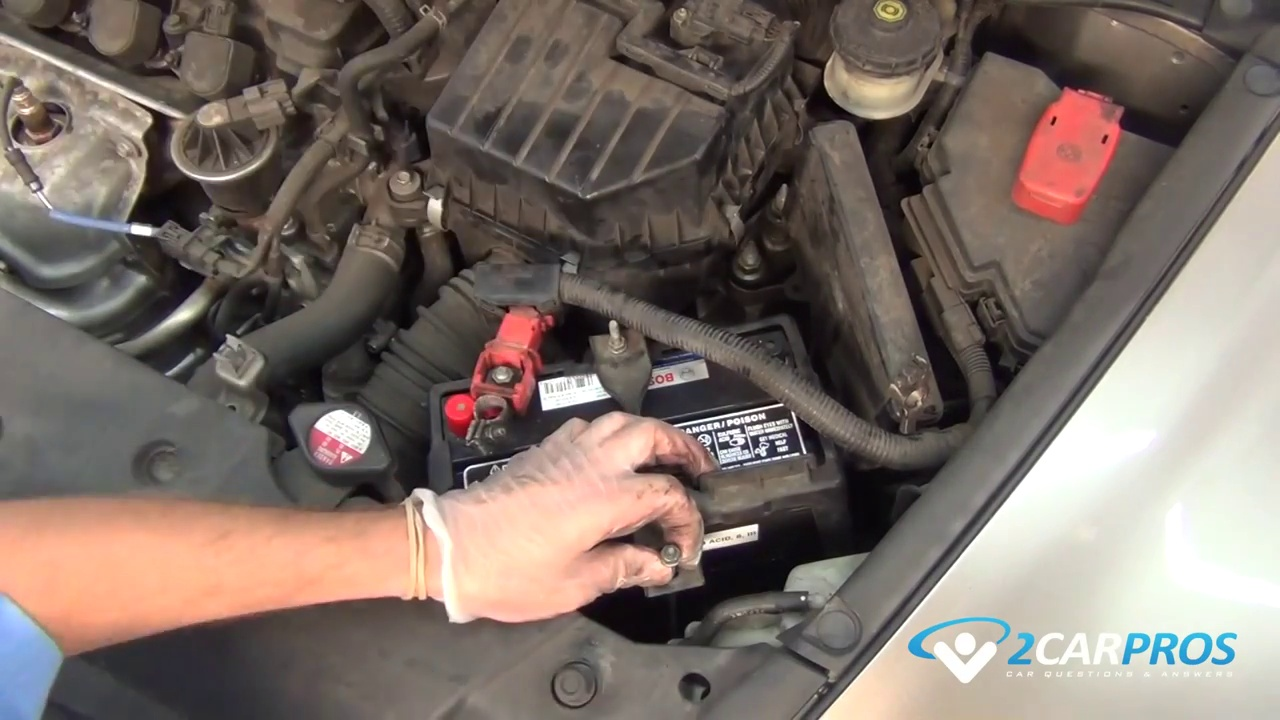battery: (429, 314, 822, 561)
pos_connected: (428, 290, 547, 469)
